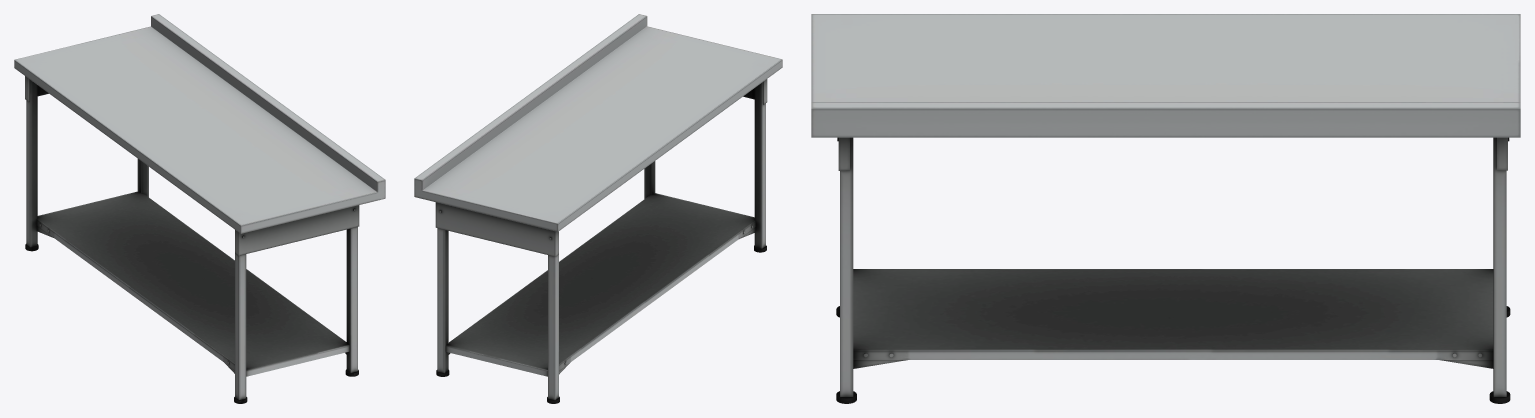
Rendered from lab_table2.fbx.
3 views of the same model, side by side, from view 1: azimuth 30°, elevation 25°; view 2: azimuth 150°, elevation 25°; view 3: azimuth 270°, elevation 25° (orthographic). The views are drawn at different scales.
Visible parts, largest first — view 1: Table.001; view 2: Table.001; view 3: Table.001.
Boxes of the visible parts, x1,y1,x2,y2 form: Table.001: (14, 14, 385, 403); Table.001: (414, 14, 782, 403); Table.001: (811, 14, 1520, 403).
Bounding box in the file's own units: 75.93 × 98.57 × 206.
1 material, 1 textured.
